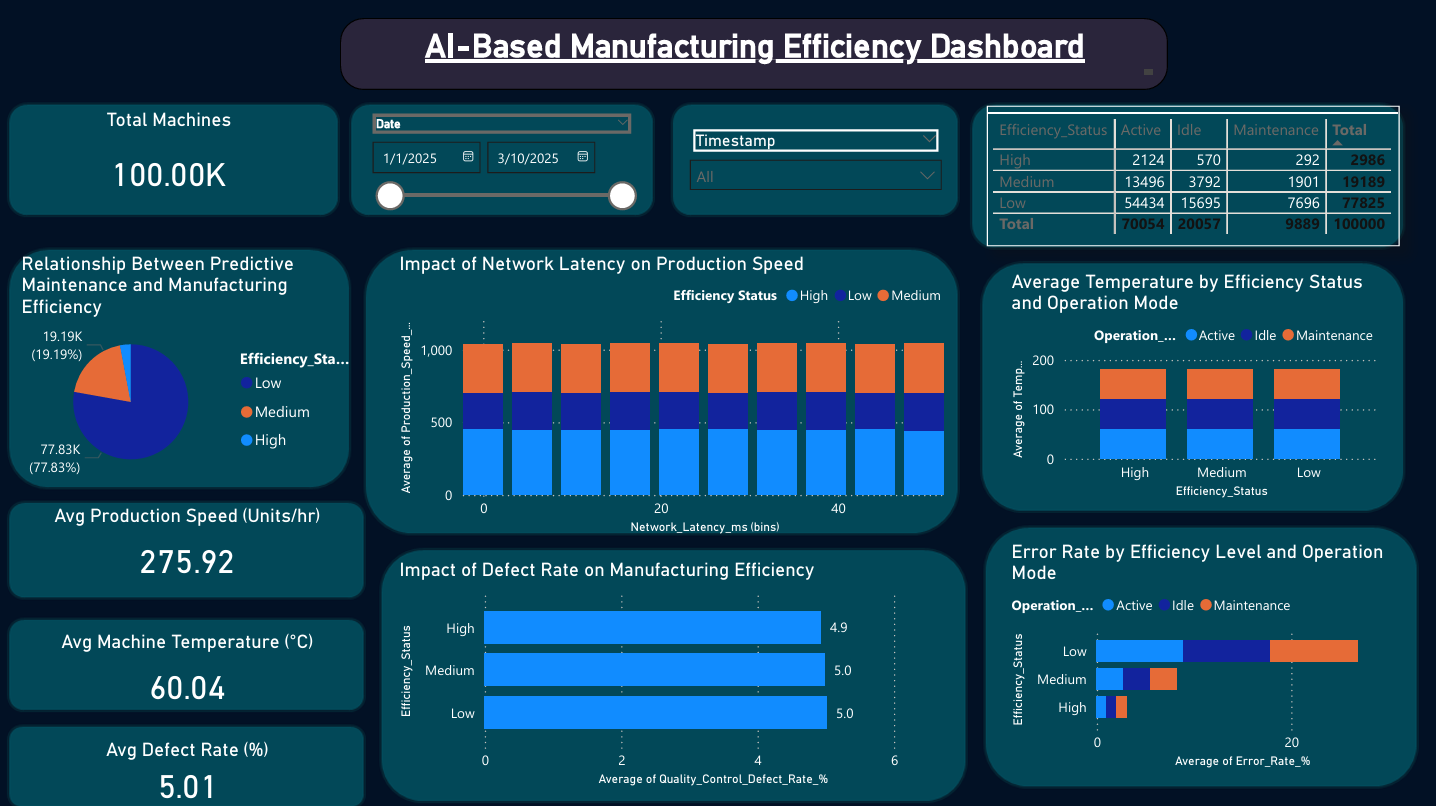

What the dashboard file says about the page in this screenshot:
{"tool":"powerbi","page":{"name":"Page 1","canvas":[1280,720],"ordinal":0},"visuals":[{"type":"slicer","title":"DATE","fields":{"Values":["Thales_Group_Manufacturing.Date"]},"box":[320,96,256,96],"z":0},{"type":"card","title":"Total Machines","fields":{"Values":["CountNonNull(Thales_Group_Manufacturing.Machine_ID)"]},"box":[16,96,272,96],"z":1000},{"type":"pieChart","title":"Relationship Between Predictive Maintenance and Manufacturing Efficiency","fields":{"Y":["CountNonNull(Thales_Group_Manufacturing.Predictive_Maintenance_Score)"],"Category":["Thales_Group_Manufacturing.Efficiency_Status"]},"box":[16,224,304,208],"z":2000},{"type":"slicer","title":"Timestamp","fields":{"Values":["Thales_Group_Manufacturing.Timestamp"]},"box":[608,96,240,80],"z":3000},{"type":"pivotTable","fields":{"Rows":["Thales_Group_Manufacturing.Efficiency_Status"],"Columns":["Thales_Group_Manufacturing.Operation_Mode"],"Values":["CountNonNull(Thales_Group_Manufacturing.Machine_ID)"]},"box":[879,94,367,125],"z":4000},{"type":"card","title":"Avg Machine Temperature (°C)","fields":{"Values":["Avg(Thales_Group_Manufacturing.Temperature_C)"]},"box":[0,560,336,80],"z":5000},{"type":"card","title":"Avg Production Speed (Units/hr)","fields":{"Values":["Avg(Thales_Group_Manufacturing.Production_Speed_units_per_hr)"]},"box":[16,448,304,80],"z":6000},{"type":"card","title":"Avg Defect Rate (%)","fields":{"Values":["Avg(Thales_Group_Manufacturing.Quality_Control_Defect_Rate_%)"]},"box":[16,656,304,64],"z":7000},{"type":"barChart","title":"Error Rate by Efficiency Level and Operation Mode","fields":{"Y":["Avg(Thales_Group_Manufacturing.Error_Rate_%)"],"Category":["Thales_Group_Manufacturing.Efficiency_Status"],"Series":["Thales_Group_Manufacturing.Operation_Mode"]},"box":[896,480,352,208],"z":8000},{"type":"columnChart","title":"Impact of Network Latency on Production Speed","fields":{"Series":["Thales_Group_Manufacturing.Efficiency_Status"],"Y":["Avg(Thales_Group_Manufacturing.Production_Speed_units_per_hr)"],"Category":["Thales_Group_Manufacturing.Network_Latency_ms (bins)"]},"box":[352,224,496,256],"z":9000},{"type":"lineStackedColumnComboChart","title":"Average Temperature by Efficiency Status and Operation Mode","fields":{"Series":["Thales_Group_Manufacturing.Operation_Mode"],"Category":["Thales_Group_Manufacturing.Efficiency_Status"],"Y":["Avg(Thales_Group_Manufacturing.Temperature_C)"]},"box":[896,240,336,208],"z":10000},{"type":"barChart","title":"Impact of Defect Rate on Manufacturing Efficiency","fields":{"Category":["Thales_Group_Manufacturing.Efficiency_Status"],"Y":["Avg(Thales_Group_Manufacturing.Quality_Control_Defect_Rate_%)"]},"box":[352,496,496,208],"z":11000},{"type":"textbox","title":"AI-Based Manufacturing Efficiency Dashboard","box":[304,16,736,64],"z":12000}]}

Visuals, with their boxes in screenshot pixels (x1, y1, x2, y2), scaled from the page's 1280x720 canvas onto the 1436x806 screenshot:
"DATE" slicer: box(359, 107, 646, 215)
"Total Machines" card: box(18, 107, 323, 215)
"Relationship Between Predictive Maintenance and Manufacturing Efficiency" pieChart: box(18, 251, 359, 484)
"Timestamp" slicer: box(682, 107, 951, 197)
pivotTable - Thales_Group_Manufacturing.Efficiency_Status x Thales_Group_Manufacturing.Operation_Mode: box(986, 105, 1398, 245)
"Avg Machine Temperature (°C)" card: box(0, 627, 377, 716)
"Avg Production Speed (Units/hr)" card: box(18, 502, 359, 591)
"Avg Defect Rate (%)" card: box(18, 734, 359, 805)
"Error Rate by Efficiency Level and Operation Mode" barChart: box(1005, 537, 1400, 770)
"Impact of Network Latency on Production Speed" columnChart: box(395, 251, 951, 537)
"Average Temperature by Efficiency Status and Operation Mode" lineStackedColumnComboChart: box(1005, 269, 1382, 502)
"Impact of Defect Rate on Manufacturing Efficiency" barChart: box(395, 555, 951, 788)
"AI-Based Manufacturing Efficiency Dashboard" textbox: box(341, 18, 1167, 90)
